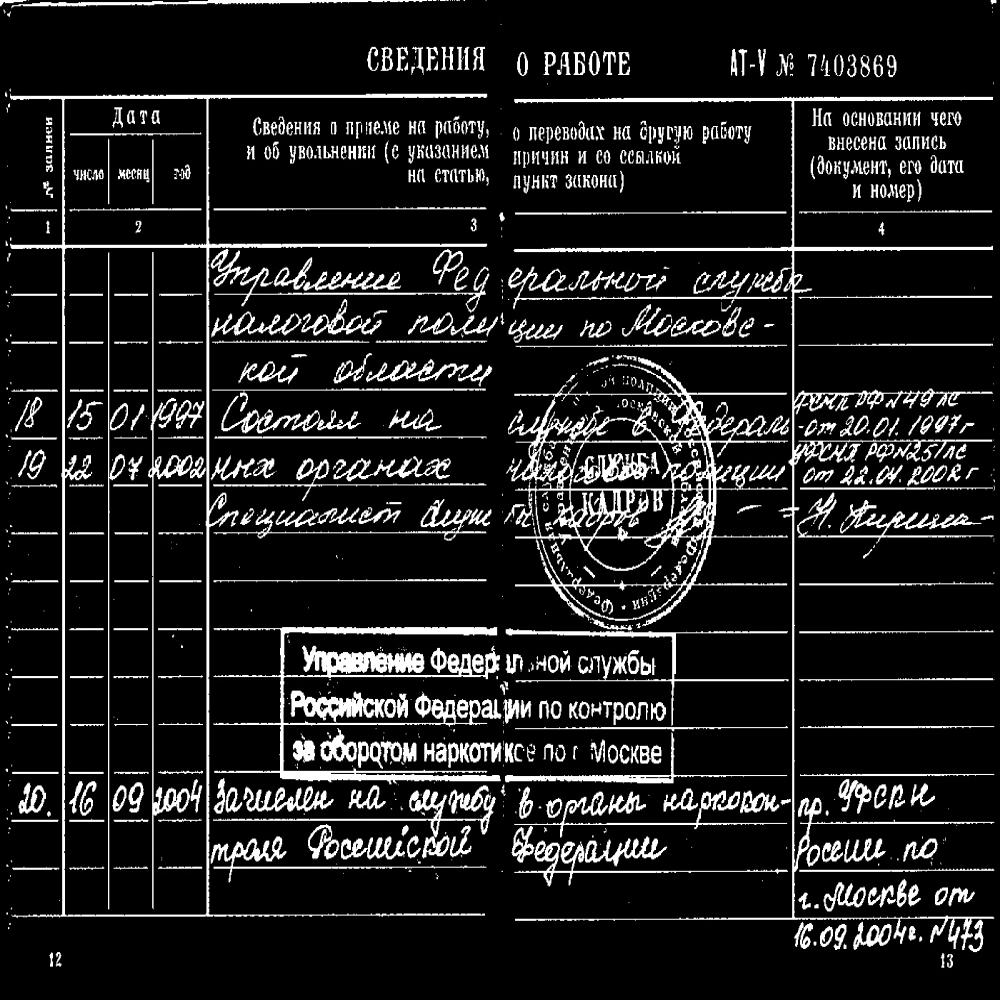rus: (211, 772, 788, 823), (210, 820, 668, 870), (405, 299, 781, 341), (207, 486, 487, 532), (423, 246, 670, 298), (217, 390, 441, 443), (206, 441, 452, 485), (239, 348, 496, 390), (794, 872, 992, 917), (208, 295, 386, 345), (210, 244, 406, 289), (795, 915, 991, 960), (797, 442, 986, 481), (792, 827, 943, 872), (298, 644, 428, 683), (287, 688, 412, 727), (800, 414, 985, 440), (368, 45, 488, 83), (414, 692, 534, 730), (800, 778, 936, 810), (692, 256, 807, 293), (707, 393, 789, 442), (319, 731, 420, 770), (807, 43, 901, 83), (538, 43, 634, 82), (810, 156, 966, 179), (812, 107, 967, 130), (565, 699, 669, 729), (574, 648, 662, 681), (800, 388, 962, 405), (719, 447, 784, 485), (150, 395, 206, 438), (588, 739, 664, 769), (406, 141, 493, 167), (287, 143, 377, 168), (829, 132, 951, 150), (146, 449, 206, 485), (11, 772, 56, 818), (527, 121, 605, 146), (152, 778, 202, 816), (634, 119, 695, 149), (13, 393, 56, 435), (37, 114, 58, 200), (251, 116, 323, 140), (432, 165, 491, 194), (617, 144, 686, 168), (13, 444, 51, 487), (433, 114, 491, 142), (511, 144, 570, 171), (65, 396, 104, 436), (847, 182, 932, 200), (108, 398, 146, 438), (109, 106, 168, 130), (66, 777, 101, 817), (698, 119, 756, 143), (110, 778, 144, 818), (60, 447, 94, 482), (109, 451, 145, 484), (344, 119, 402, 138), (564, 171, 618, 191), (511, 173, 562, 194), (113, 165, 151, 193), (288, 734, 318, 766), (72, 163, 104, 190), (537, 695, 563, 725), (512, 49, 532, 81), (403, 165, 428, 189), (170, 162, 194, 186), (609, 120, 632, 143), (263, 141, 282, 165), (406, 119, 428, 136), (594, 149, 613, 168), (573, 149, 590, 168), (390, 142, 401, 166), (244, 144, 258, 162), (511, 121, 522, 142), (617, 169, 626, 192), (383, 139, 390, 168), (328, 118, 339, 136)
